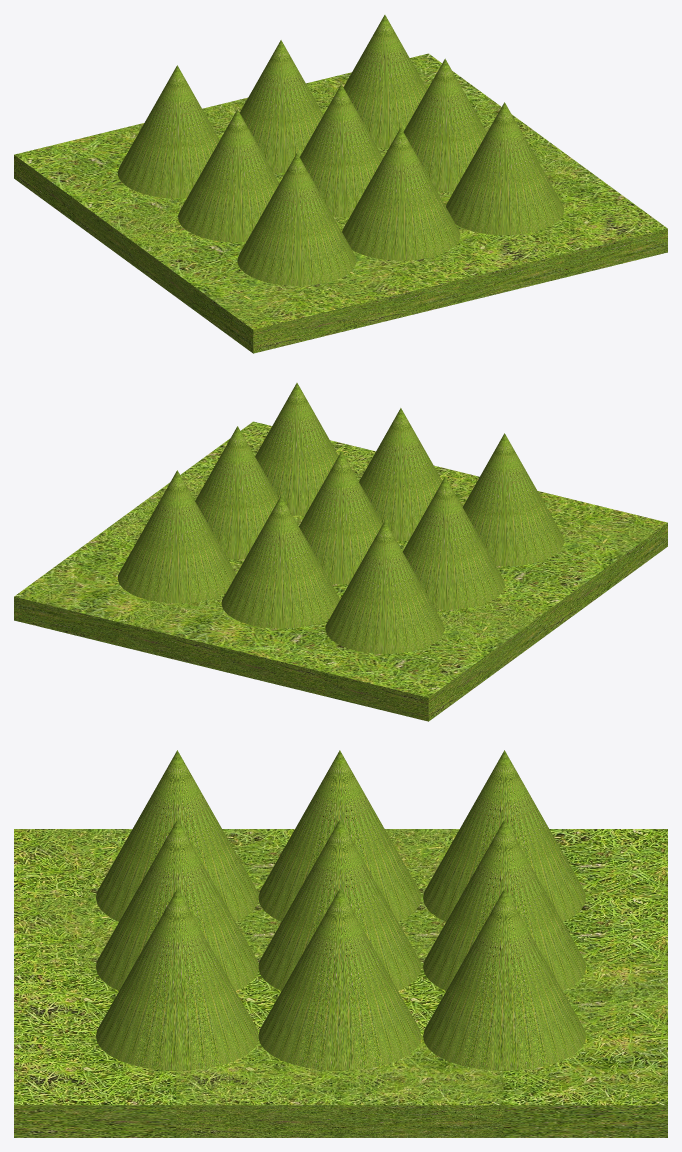
The model's file is stachel3x3.obj.
3 views of the same model, one above another, from view 1: azimuth 30°, elevation 25°; view 2: azimuth 150°, elevation 25°; view 3: azimuth 270°, elevation 25° (orthographic). The views are drawn at different scales.
Parts seen in each view (by area): view 1: Stachel.002; view 2: Stachel.002; view 3: Stachel.002.
Boxes of the visible parts, x1=… form: Stachel.002: x1=14, y1=15, x2=667, y2=353; Stachel.002: x1=14, y1=383, x2=667, y2=721; Stachel.002: x1=14, y1=750, x2=667, y2=1137.
Size of the model in its own units: 4 by 1.22 by 4.
